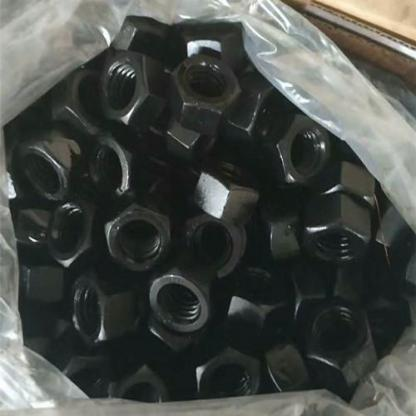FOD: (301, 299, 382, 393), (168, 51, 245, 130), (91, 47, 165, 128), (270, 106, 337, 191), (101, 204, 174, 273), (147, 270, 212, 334)
